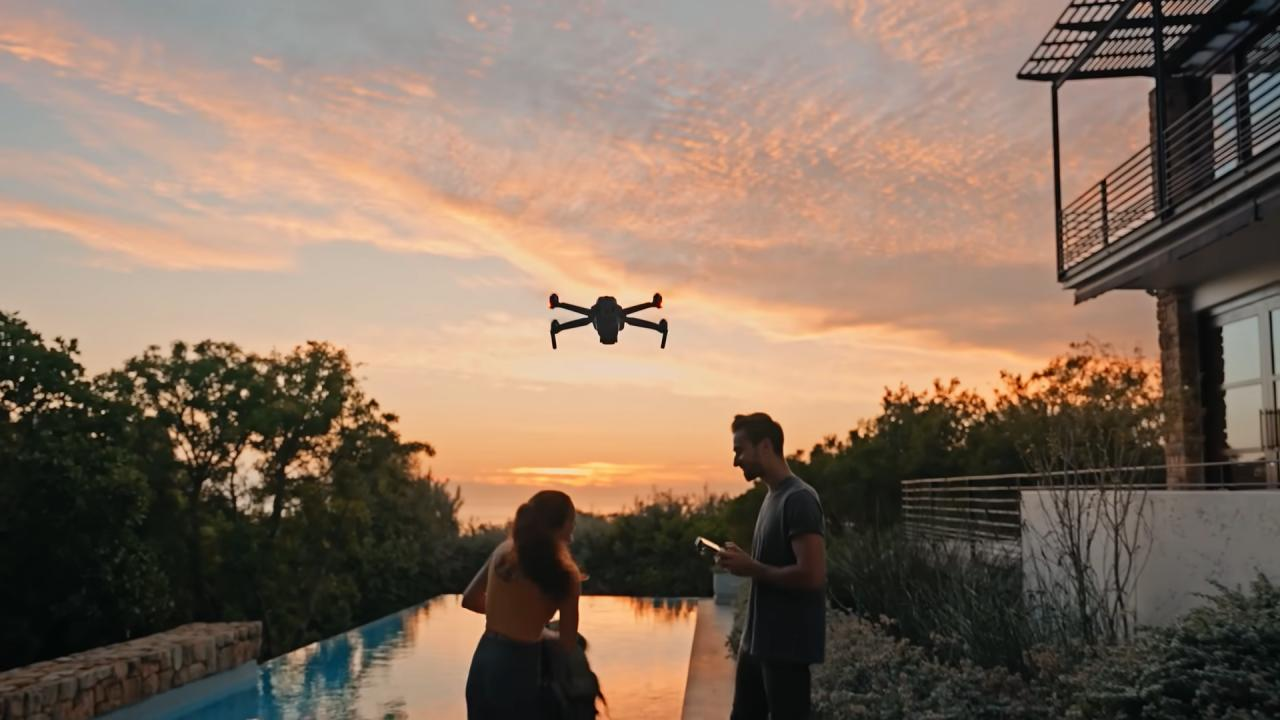Drone: (534, 278, 677, 360)
